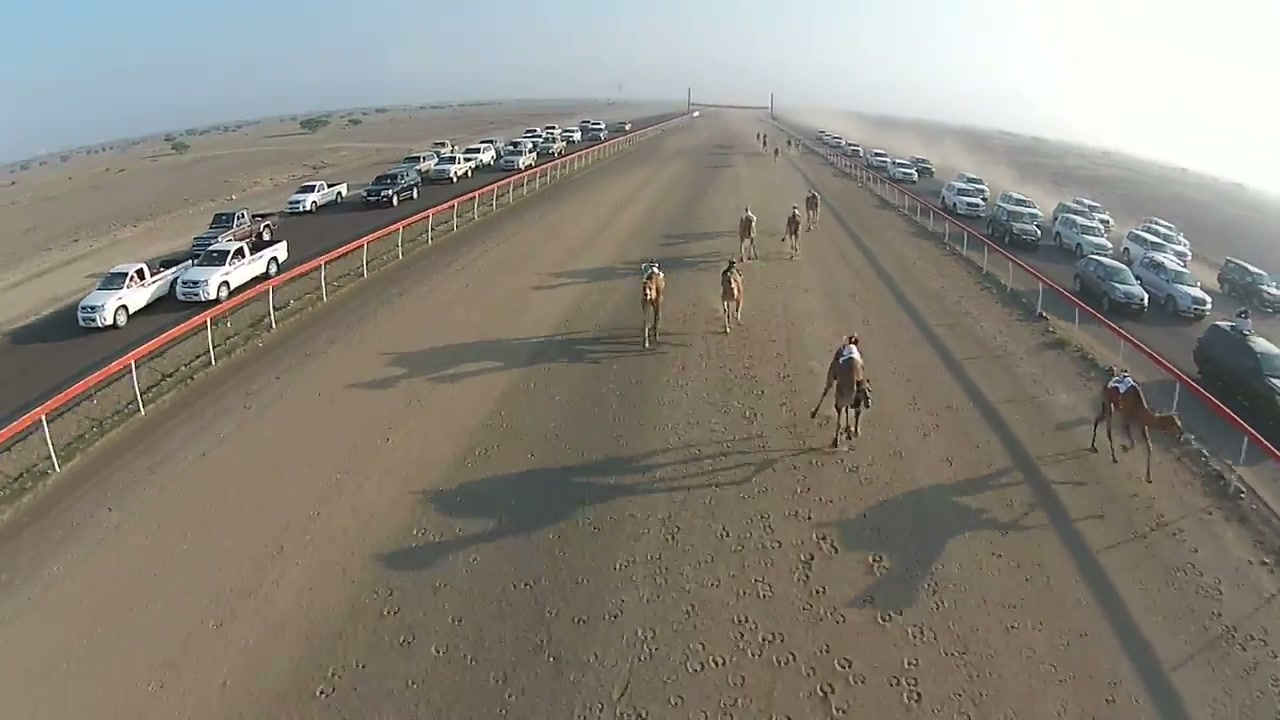animal_foot_print: (482, 331, 950, 719)
